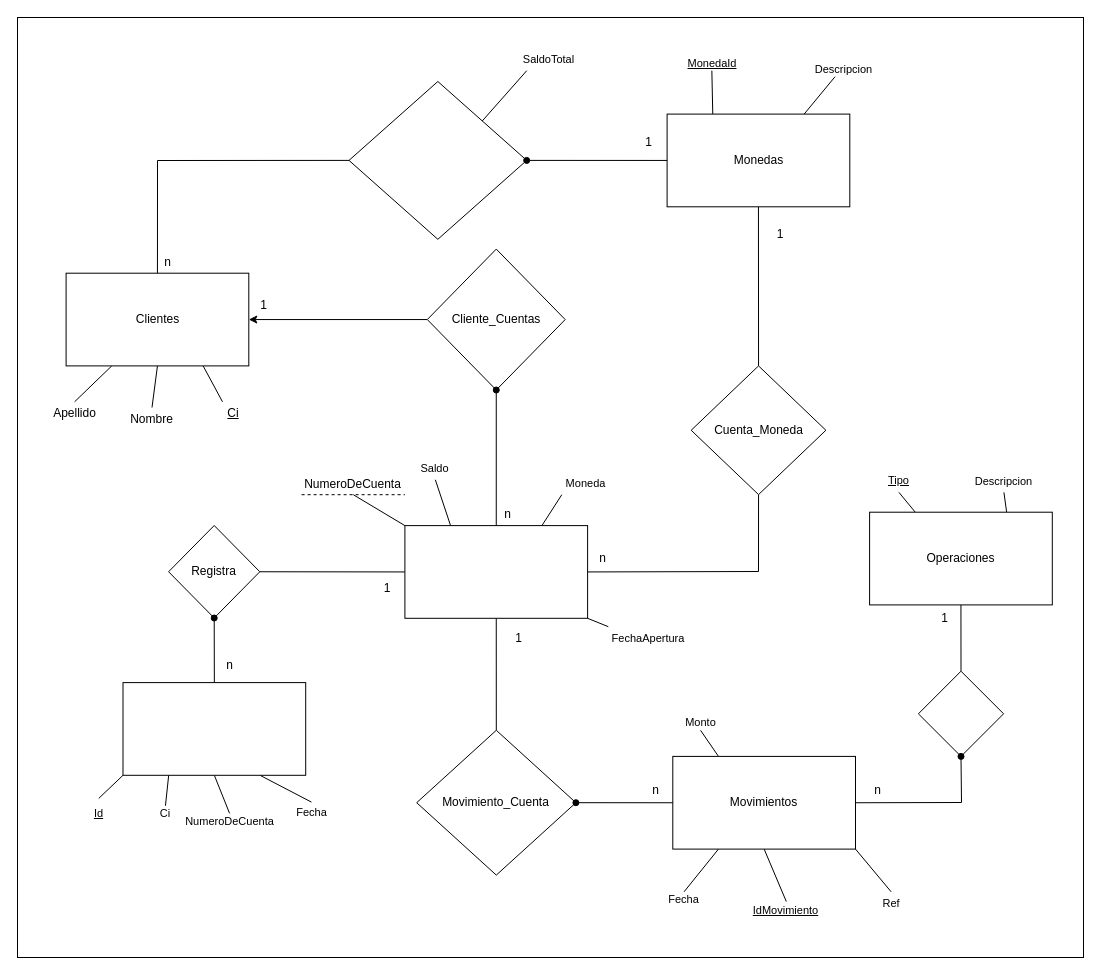
This 1101x975 diagram has some shape labels left out. The centre of each missing label's shape, as x and y in pixels:
"Asociado_A" goes at [960,713].
"Auditoria" goes at [214,728].
"Cuentas" goes at [496,571].
"Saldos_Cliente_Moneda" goes at [437,159].
